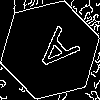A: (25, 25, 81, 81)
